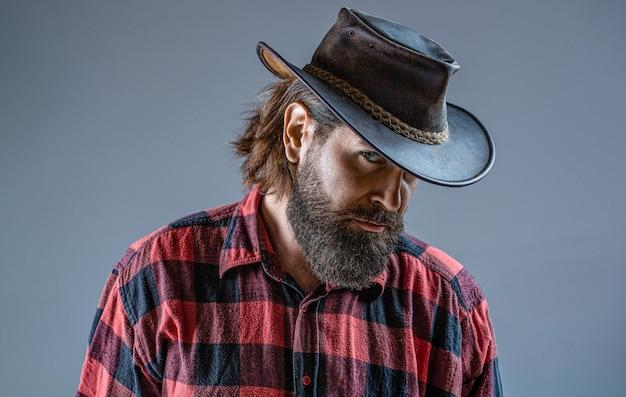cap: (244, 0, 526, 190)
